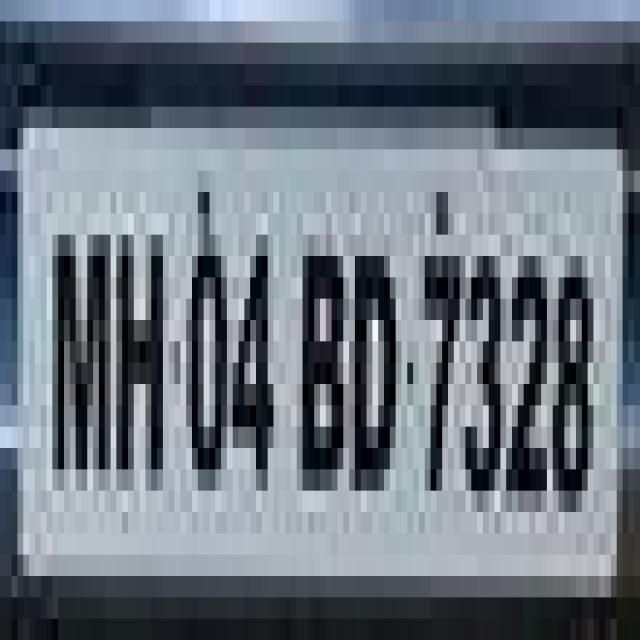license_plate: (6, 64, 605, 619)
